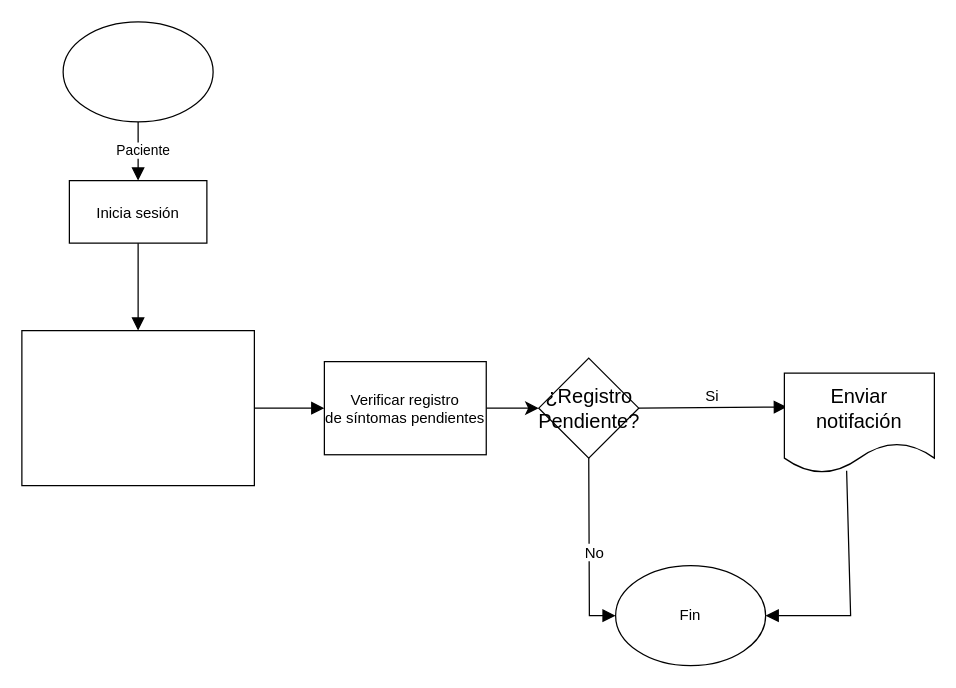
This 956x688 diagram has some shape labels left out. Each missing label, with the box of its shape:
Inicio: (62, 21, 213, 122)
Sistema de Gestión de síntomas: (21, 329, 254, 486)
